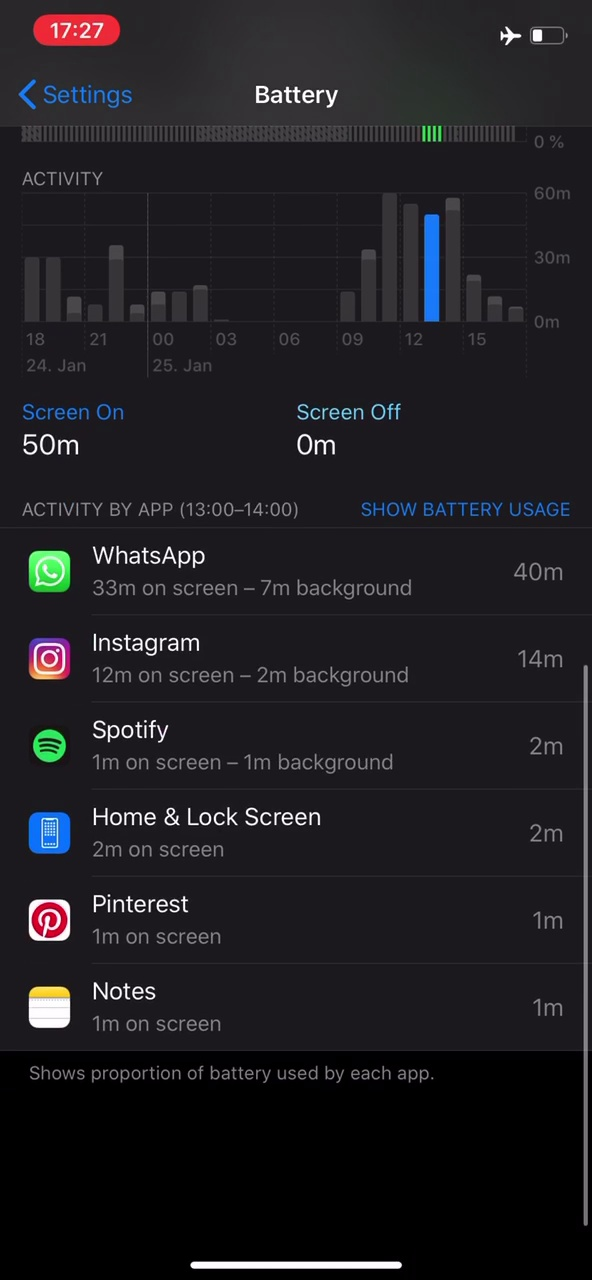activity: (12, 492, 325, 536)
app: (11, 539, 576, 605), (7, 623, 572, 689), (12, 710, 577, 776), (7, 797, 572, 863), (8, 886, 573, 952), (7, 974, 572, 1040)
